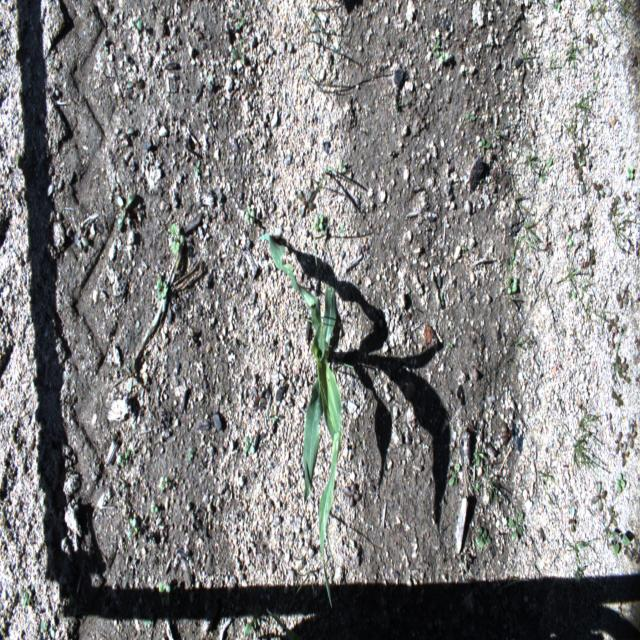crop: (259, 232, 343, 610), (576, 430, 595, 465), (567, 258, 582, 298), (573, 532, 590, 564), (577, 412, 600, 434)
weed: (165, 216, 192, 260), (570, 142, 590, 197), (118, 58, 145, 94), (115, 189, 138, 228), (250, 373, 270, 415), (151, 266, 174, 302), (120, 360, 140, 396), (472, 518, 492, 554), (584, 243, 600, 288), (610, 528, 632, 560), (613, 348, 631, 387), (198, 412, 226, 437), (1, 504, 18, 544), (591, 480, 609, 516), (511, 48, 531, 80), (617, 426, 631, 471), (16, 576, 34, 610), (37, 610, 60, 636), (115, 438, 136, 466), (242, 606, 263, 632), (297, 186, 314, 218), (564, 41, 586, 65), (509, 510, 525, 542), (523, 220, 539, 251), (153, 572, 172, 598), (184, 321, 201, 350), (604, 191, 621, 220), (579, 206, 593, 240), (229, 40, 247, 66), (533, 159, 551, 185), (445, 463, 462, 489), (476, 134, 496, 156), (584, 33, 602, 57), (575, 95, 595, 116), (76, 220, 89, 252), (123, 516, 141, 538), (434, 42, 452, 64), (240, 427, 254, 455), (312, 209, 326, 237), (118, 123, 138, 142), (243, 202, 257, 229), (310, 6, 324, 33), (616, 285, 629, 314), (565, 223, 578, 252), (504, 275, 519, 300), (490, 471, 504, 497), (548, 56, 562, 82), (542, 232, 553, 264), (470, 448, 484, 473), (194, 154, 204, 186), (460, 103, 476, 123), (612, 219, 628, 239), (569, 505, 579, 536), (537, 468, 554, 486), (626, 426, 636, 456), (593, 179, 606, 202), (13, 157, 27, 177), (312, 69, 326, 89), (324, 166, 341, 182), (185, 442, 194, 472), (615, 476, 630, 494), (148, 502, 160, 523), (608, 317, 622, 335), (160, 474, 172, 494), (628, 52, 638, 75), (132, 18, 146, 34), (574, 566, 588, 582), (609, 393, 623, 408), (234, 13, 246, 30), (626, 159, 634, 184), (339, 154, 346, 178), (510, 196, 524, 208), (563, 120, 575, 134), (271, 406, 279, 425), (606, 412, 614, 428), (553, 3, 562, 16)
